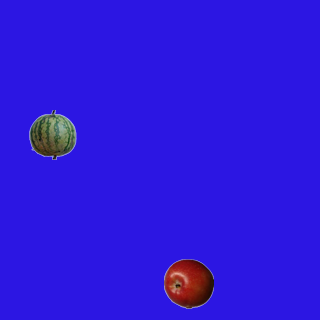Apple Braeburn: (163, 258, 213, 308)
Watermelon: (27, 109, 77, 159)
